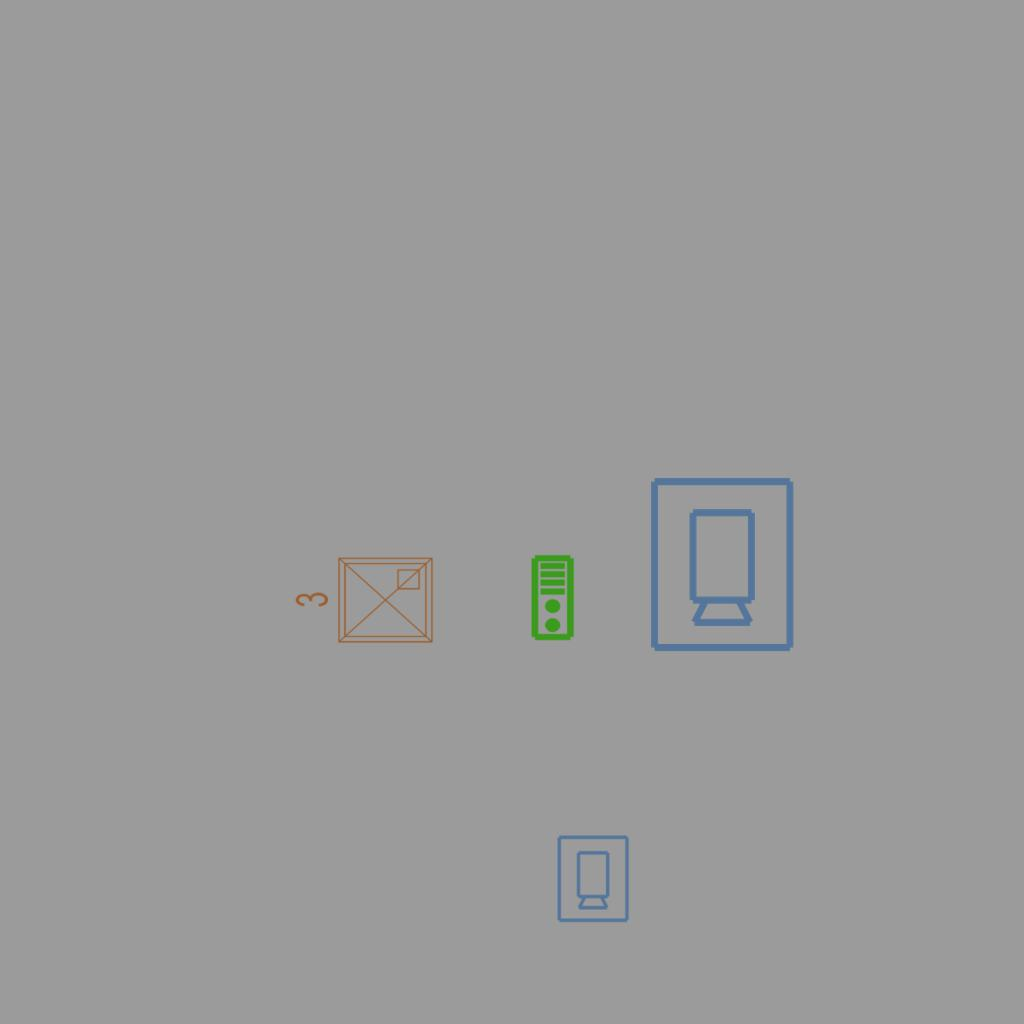Einbaudownlights_LED_Konferenzraeume: (290, 550, 440, 654)
Gegensprechanlage_mit_Video: (530, 554, 577, 642)
KFO_Kamera_mit_Festobjektiv: (644, 473, 798, 655), (554, 833, 631, 924)
